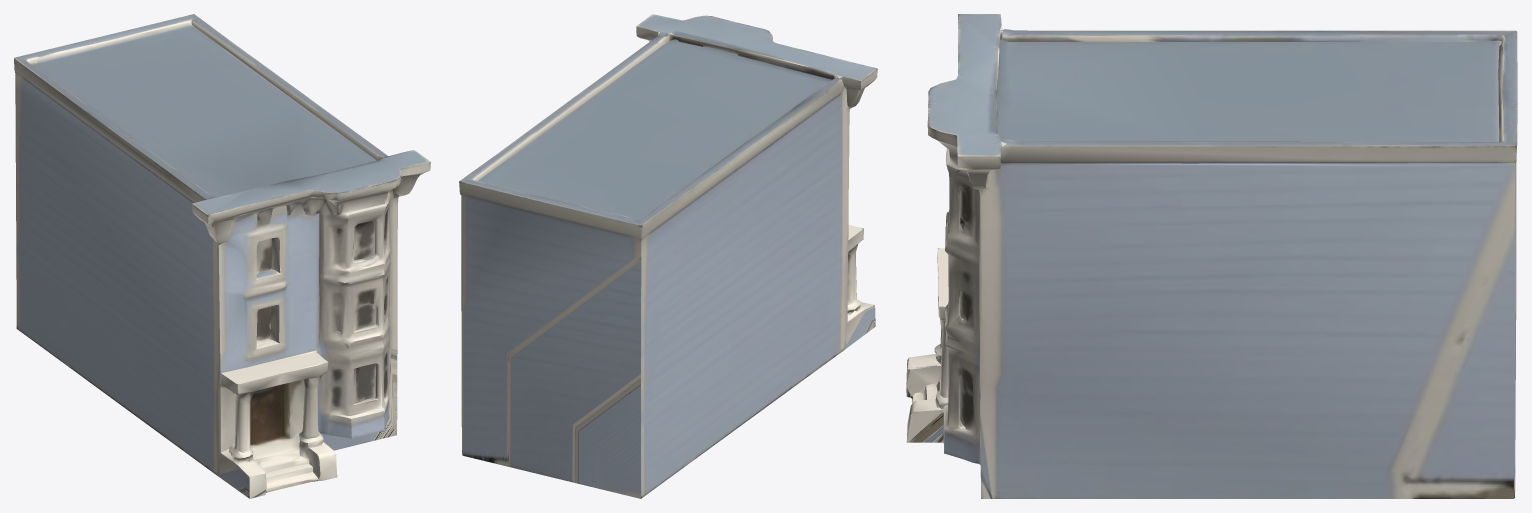
The model's file is edwardian-flats.glb.
The picture shows the model from 3 angles, left to right: view 1: azimuth 30°, elevation 25°; view 2: azimuth 150°, elevation 25°; view 3: azimuth 270°, elevation 25°; orthographic projection. The views are drawn at different scales.
Visible parts, largest first — view 1: edwardian-flats; view 2: edwardian-flats; view 3: edwardian-flats.
Part boxes in pixels (x1,y1,x2,y2): edwardian-flats: [14, 14, 430, 498]; edwardian-flats: [459, 14, 877, 498]; edwardian-flats: [906, 14, 1517, 498].
Size of the model in its own units: 4.4 by 5.2 by 8.
Materials: 1 (1 with a texture image).
